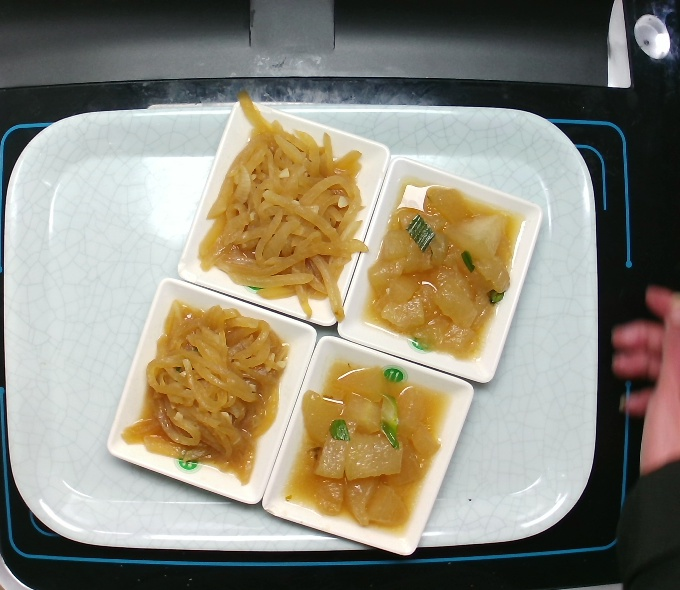wcq-DongGua: (349, 168, 531, 372), (272, 351, 459, 544)
wcq-LuoBoSi: (192, 87, 373, 329), (114, 292, 295, 489)
